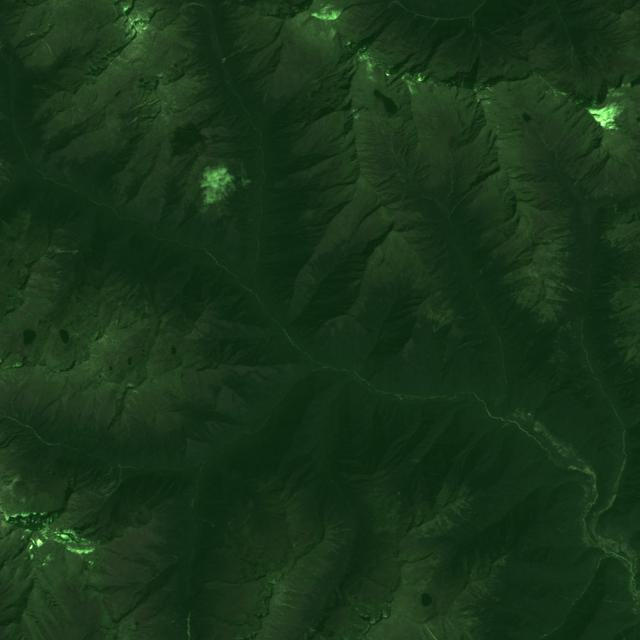landslides: (164, 0, 210, 26), (374, 167, 401, 188), (105, 466, 122, 496), (193, 505, 214, 528), (602, 377, 635, 391), (273, 584, 306, 595), (209, 179, 229, 197), (46, 43, 60, 66), (270, 598, 296, 610), (603, 596, 631, 605), (47, 246, 77, 254), (415, 171, 431, 184), (97, 468, 111, 482), (99, 479, 114, 492), (560, 283, 577, 294), (330, 518, 345, 530), (326, 528, 351, 535), (89, 467, 101, 481), (0, 161, 11, 176), (260, 630, 276, 640), (612, 607, 628, 616), (274, 593, 292, 600), (229, 116, 238, 129), (571, 269, 588, 275)
